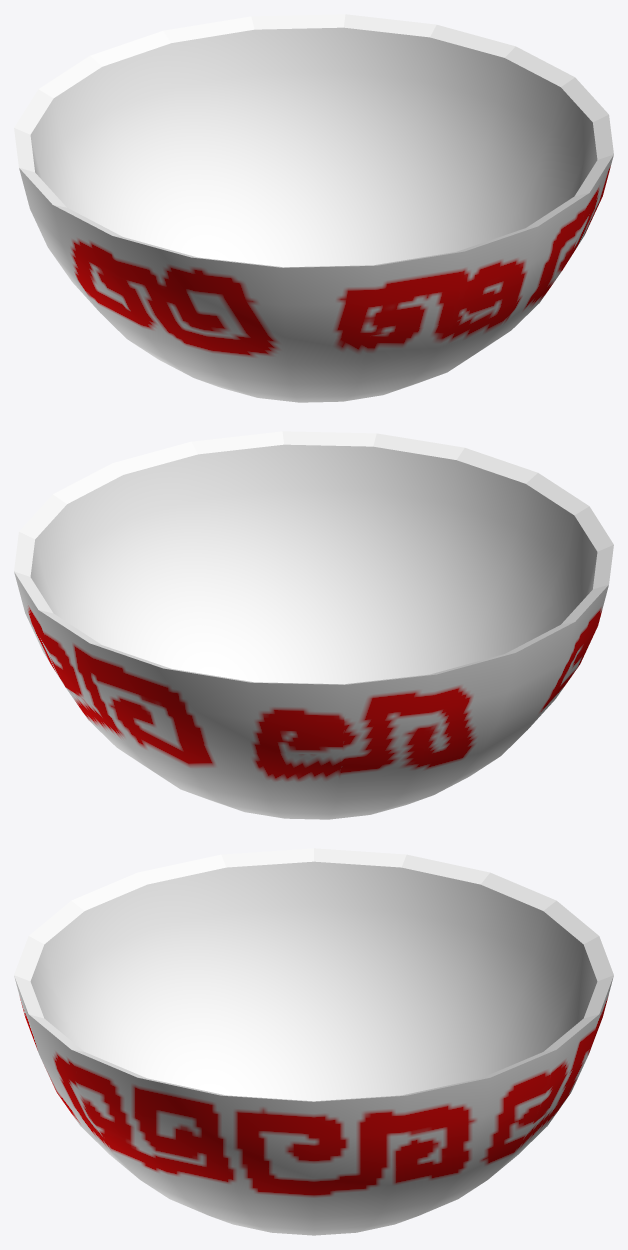
File: bowl 7.fbx
3 views of the same model, one above another, from view 1: azimuth 30°, elevation 25°; view 2: azimuth 150°, elevation 25°; view 3: azimuth 270°, elevation 25° (orthographic).
Parts seen in each view (by area): view 1: pSphere1; view 2: pSphere1; view 3: pSphere1.
Part boxes in pixels (x1,y1,x2,y2): pSphere1: (14,14,613,402); pSphere1: (14,431,613,819); pSphere1: (14,848,613,1235).
Size of the model in its own units: 2.09 by 0.8927 by 2.09.
Materials: 1 (1 with a texture image).
